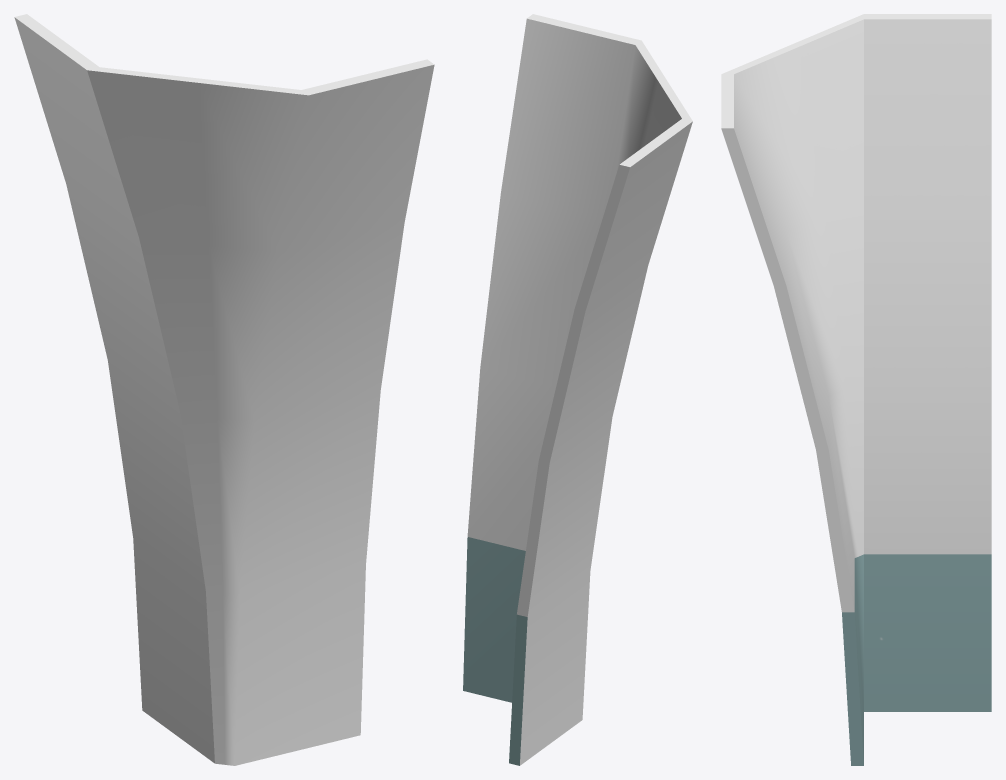
File: wall_corner_tall.fbx
3 views of the same model, side by side, from view 1: azimuth 30°, elevation 25°; view 2: azimuth 150°, elevation 25°; view 3: azimuth 270°, elevation 25° (orthographic). The views are drawn at different scales.
Visible parts, largest first — view 1: pCube3; view 2: pCube3; view 3: pCube3.
Part boxes in pixels (x1,y1,x2,y2): pCube3: (14,14,434,765); pCube3: (463,14,692,765); pCube3: (721,14,991,765).
Size of the model in its own units: 212 by 550 by 212.
